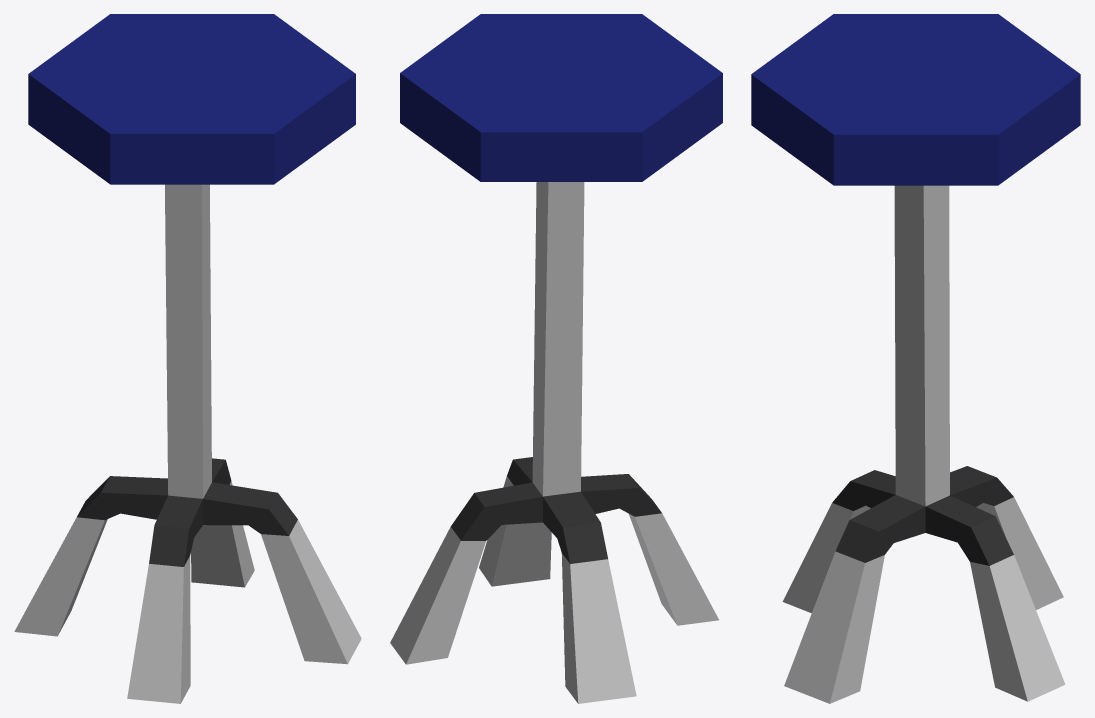
The model's file is chair.fbx.
3 views of the same model, side by side, from view 1: azimuth 30°, elevation 25°; view 2: azimuth 150°, elevation 25°; view 3: azimuth 270°, elevation 25° (orthographic). The views are drawn at different scales.
Parts seen in each view (by area): view 1: chair; view 2: chair; view 3: chair.
Boxes of the visible parts, bbox=[...] form: chair: bbox=[14, 14, 361, 703]; chair: bbox=[390, 14, 722, 703]; chair: bbox=[751, 14, 1080, 703].
Bounding box in the file's own units: 69.67 × 149 × 77.89.
